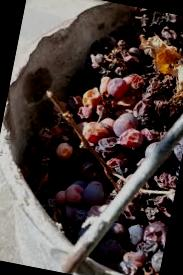Grape Rotten: (4, 0, 183, 275)
